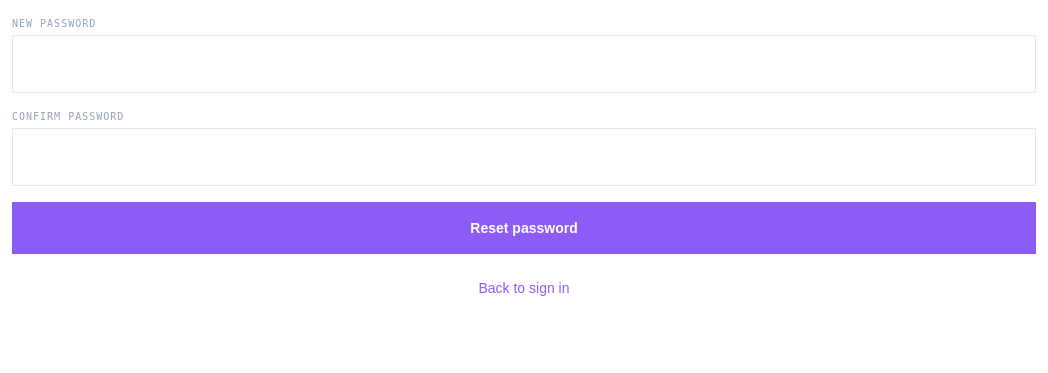
it: ResetPasswordForm › shows error when passwords do not match
This screenshot has width=1048, height=373.
In the password field labelled "New password": (524, 64) [12,35,1036,93], type "password123"
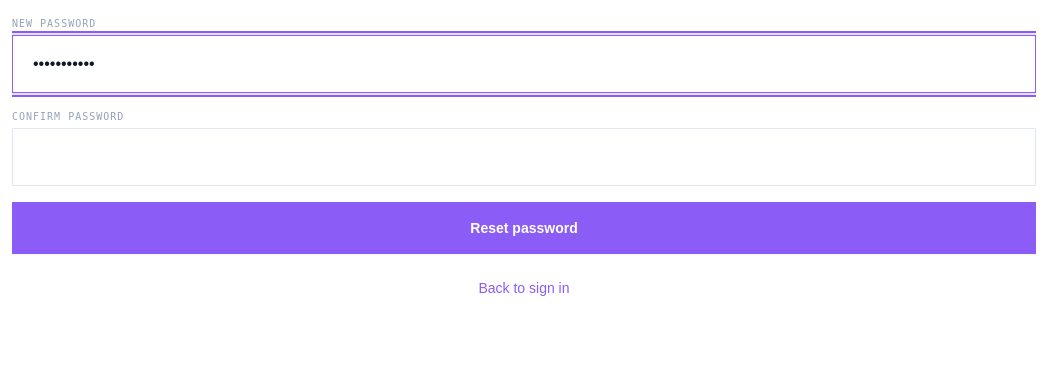
In the password field labelled "Confirm password": (524, 157) [12,128,1036,186], type "different456"
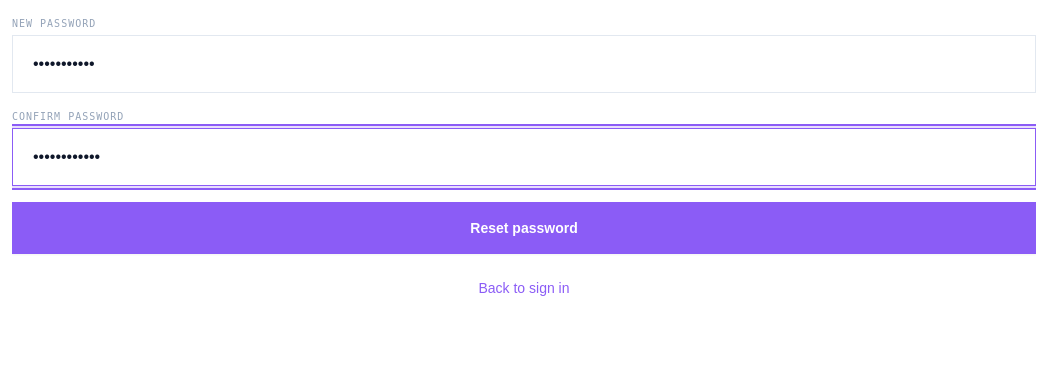
Click the button "Reset password": (524, 228) [12,202,1036,254]
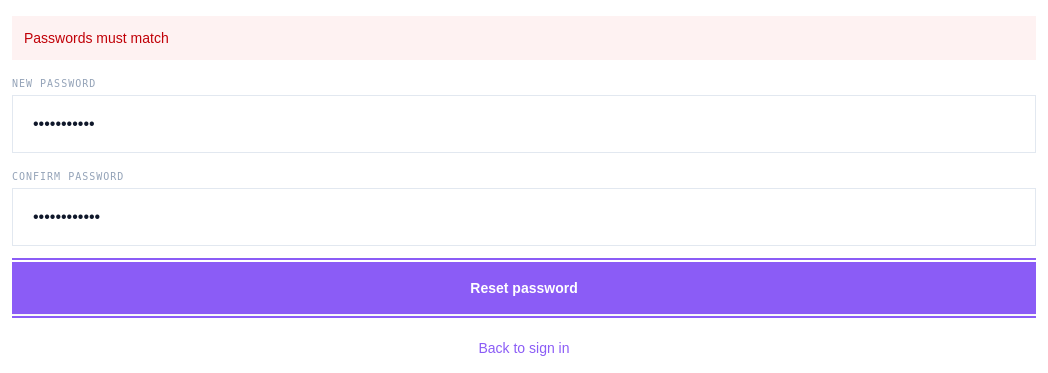
expect the text "Passwords must match" is shown: met, box [12,16,1036,60]
